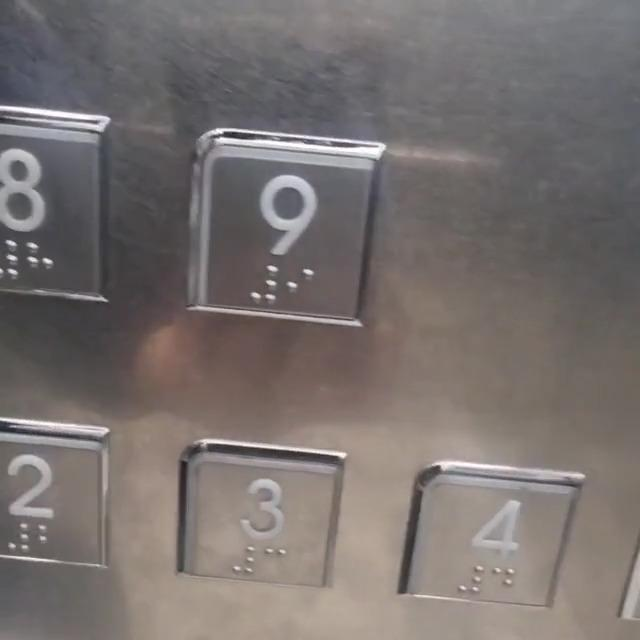button: (203, 133, 372, 323), (422, 463, 575, 623), (180, 450, 338, 597), (0, 114, 116, 304), (0, 418, 120, 588)
